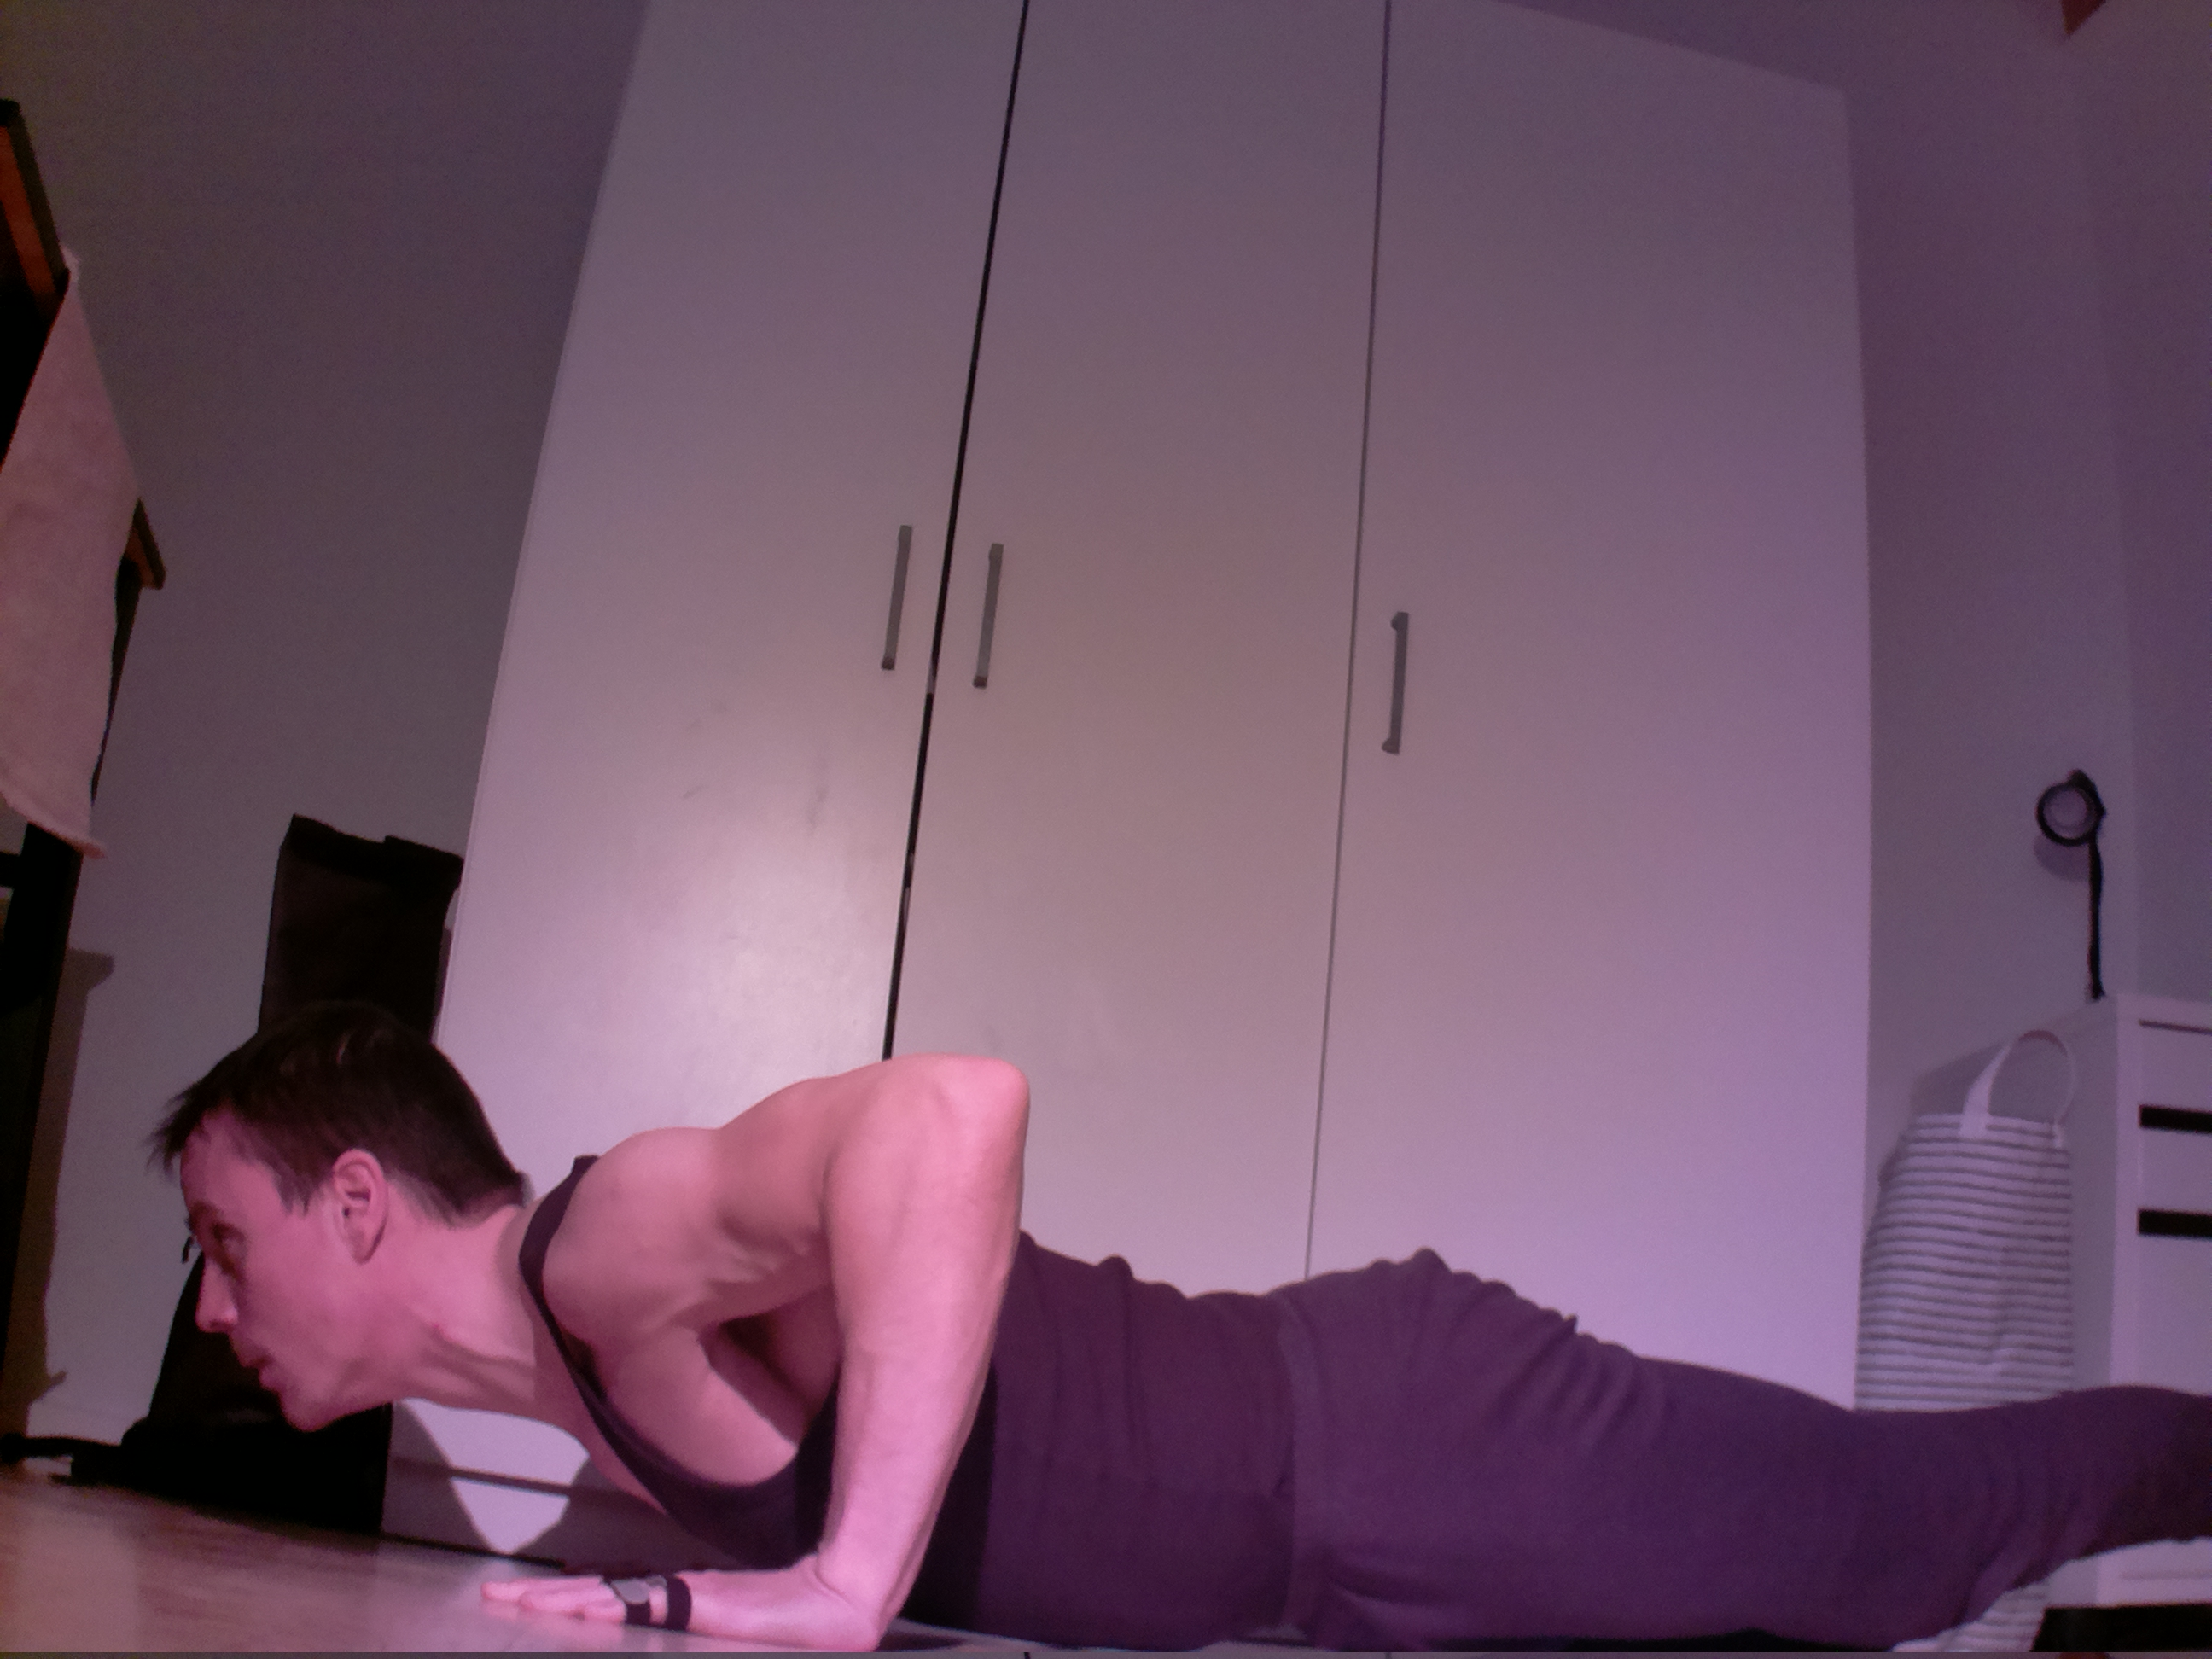CONAN: (136, 995, 1472, 1654)
